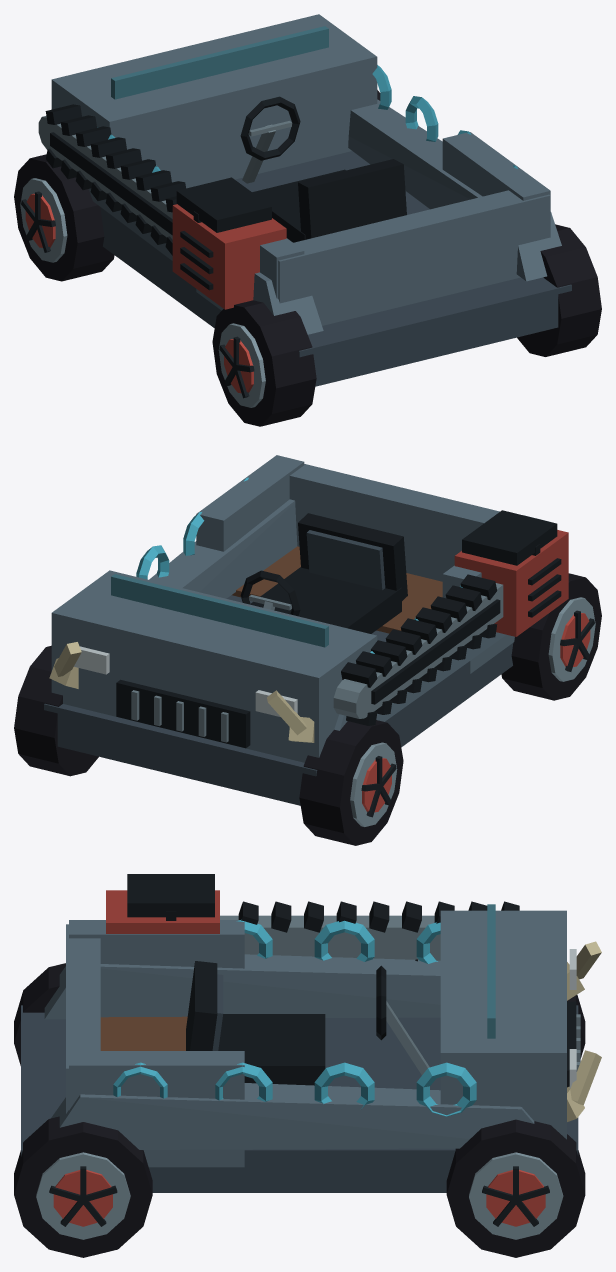
File: kart.glb
The picture shows the model from 3 angles, top to bottom: view 1: azimuth 30°, elevation 25°; view 2: azimuth 150°, elevation 25°; view 3: azimuth 270°, elevation 25°; orthographic projection. The views are drawn at different scales.
Parts seen in each view (by area): view 1: identity-truck-truck-utility-body, identity-truck-motif-chainsaw, wheel-rear-left, identity-truck-driver-cockpit, wheel-front-left, wheel-rear-right, identity-truck-motif-water; view 2: identity-truck-truck-utility-body, identity-truck-motif-chainsaw, identity-truck-driver-cockpit, wheel-front-left, wheel-rear-left, wheel-front-right, identity-truck-motif-tusks, identity-truck-motif-water; view 3: identity-truck-truck-utility-body, wheel-front-right, wheel-rear-right, identity-truck-motif-chainsaw, identity-truck-driver-cockpit, identity-truck-motif-water, identity-truck-motif-tusks, wheel-rear-left.
Boxes of the visible parts, x1,y1,x2,y2 form: identity-truck-truck-utility-body: (51,14,571,386); identity-truck-motif-chainsaw: (38,104,286,309); wheel-rear-left: (212,300,316,426); identity-truck-driver-cockpit: (240,96,406,242); wheel-front-left: (14,154,114,281); wheel-rear-right: (517,224,601,356); identity-truck-motif-water: (97,65,517,172); identity-truck-truck-utility-body: (44,455,548,805); identity-truck-motif-chainsaw: (333,510,568,725); identity-truck-driver-cockpit: (240,513,407,633); wheel-front-left: (299,720,403,845); wheel-rear-left: (501,573,601,700); wheel-front-right: (14,645,98,776); identity-truck-motif-tusks: (49,642,314,742); identity-truck-motif-water: (136,477,462,653); identity-truck-truck-utility-body: (21,904,580,1192); wheel-front-right: (446,1119,585,1257); wheel-rear-right: (14,1116,152,1257); identity-truck-motif-chainsaw: (106,874,519,961); identity-truck-driver-cockpit: (186,961,429,1085); identity-truck-motif-water: (113,919,476,1116); identity-truck-motif-tusks: (567,941,601,1121); wheel-rear-left: (14,963,65,1065).
Size of the model in its own units: 2.15 by 1.13 by 2.88.
